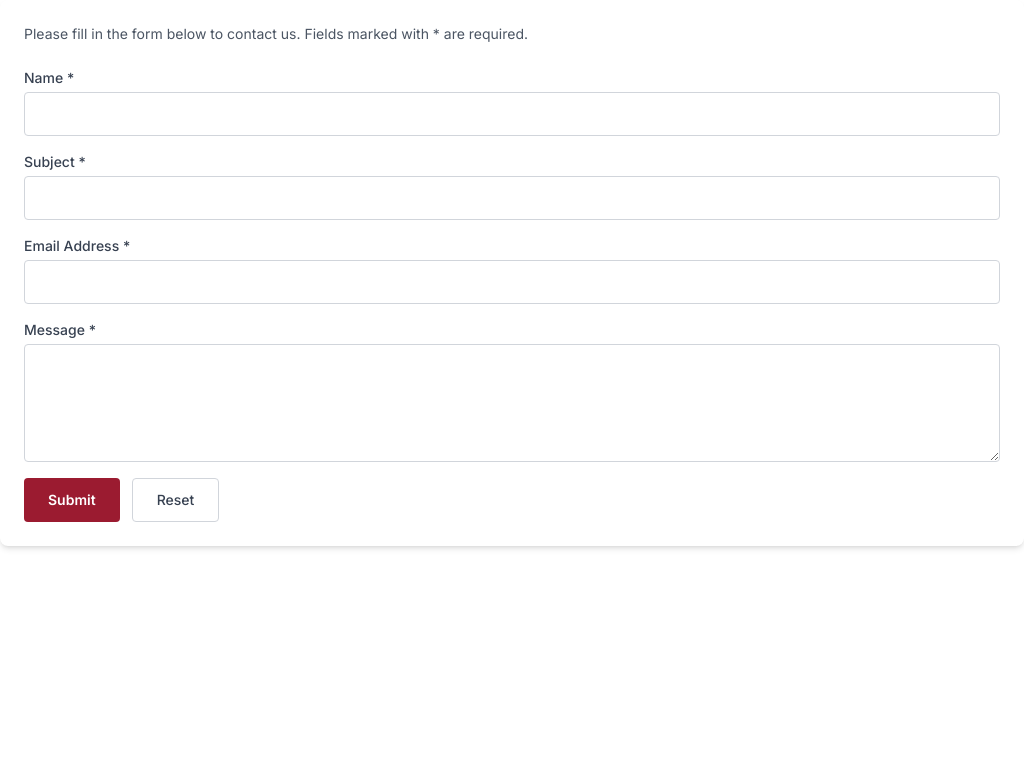
Test: ContactForm › shows validation messages on empty submit (English)
Click the button "Submit": (72, 500) [24, 478, 120, 522]
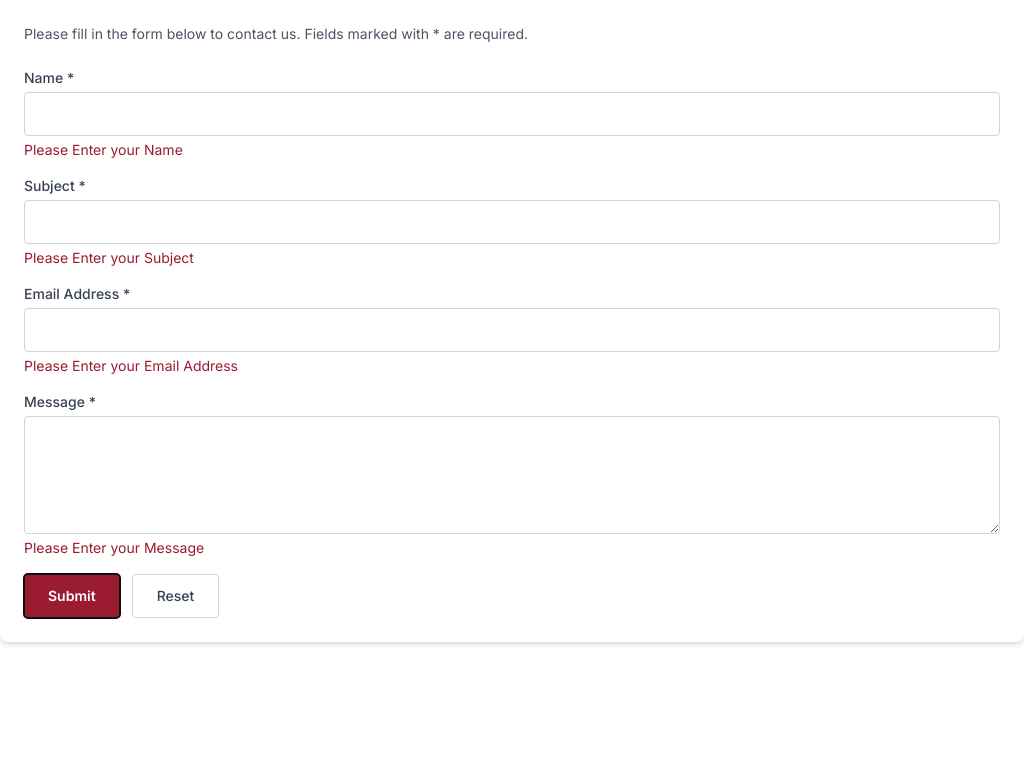
Now the text "Please Enter your Name" is shown, box [24, 141, 183, 158]
Now the text "Please Enter your Subject" is shown, box [24, 249, 194, 266]
Now the text "Please Enter your Email Address" is shown, box [24, 357, 238, 374]
